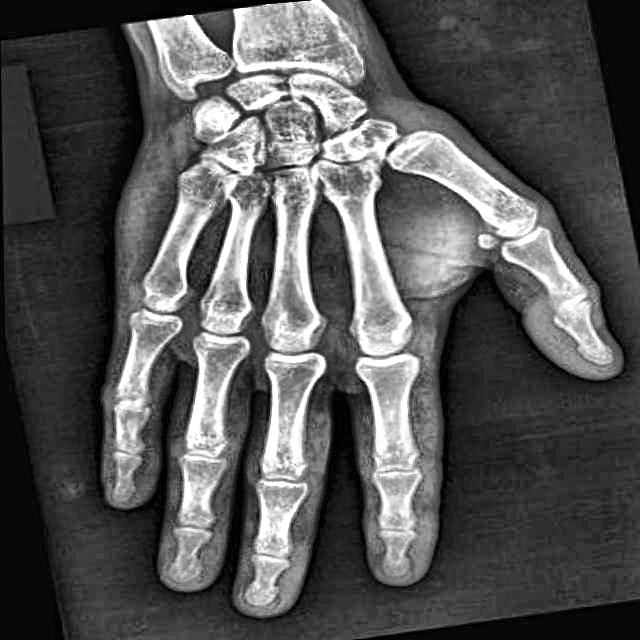Healthy: (61, 30, 587, 554)
